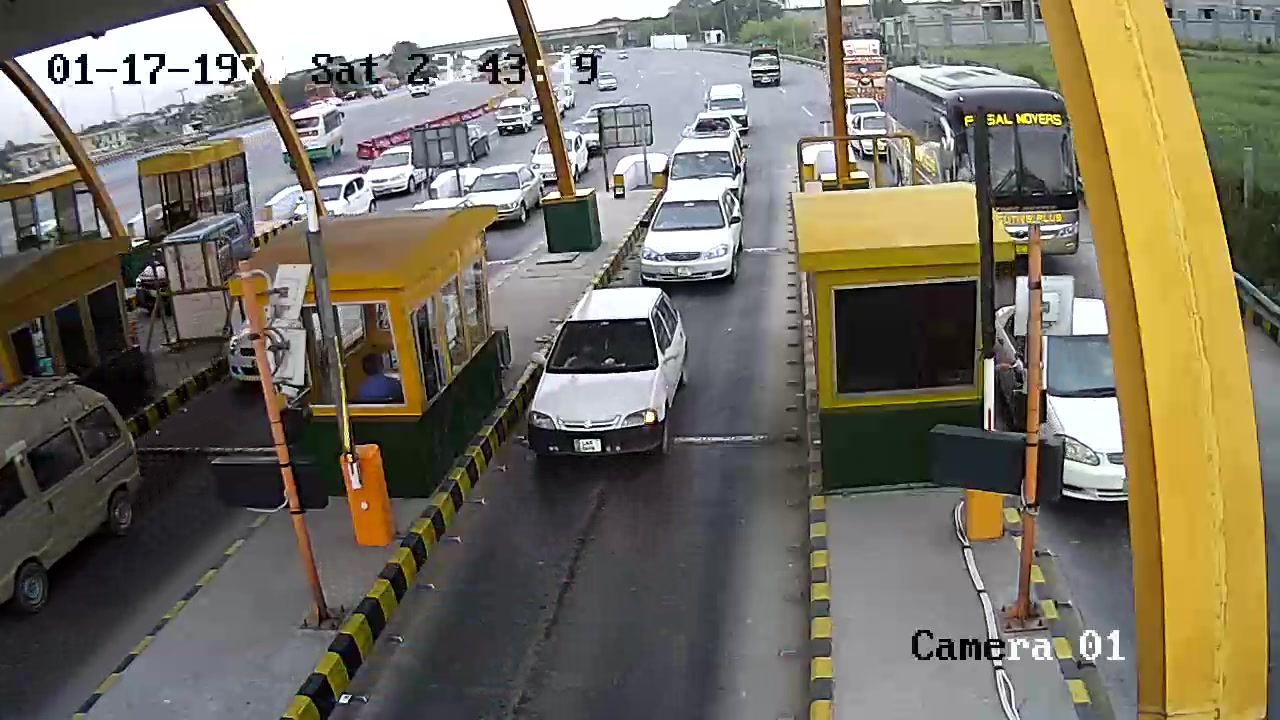F1: (523, 283, 692, 479)
